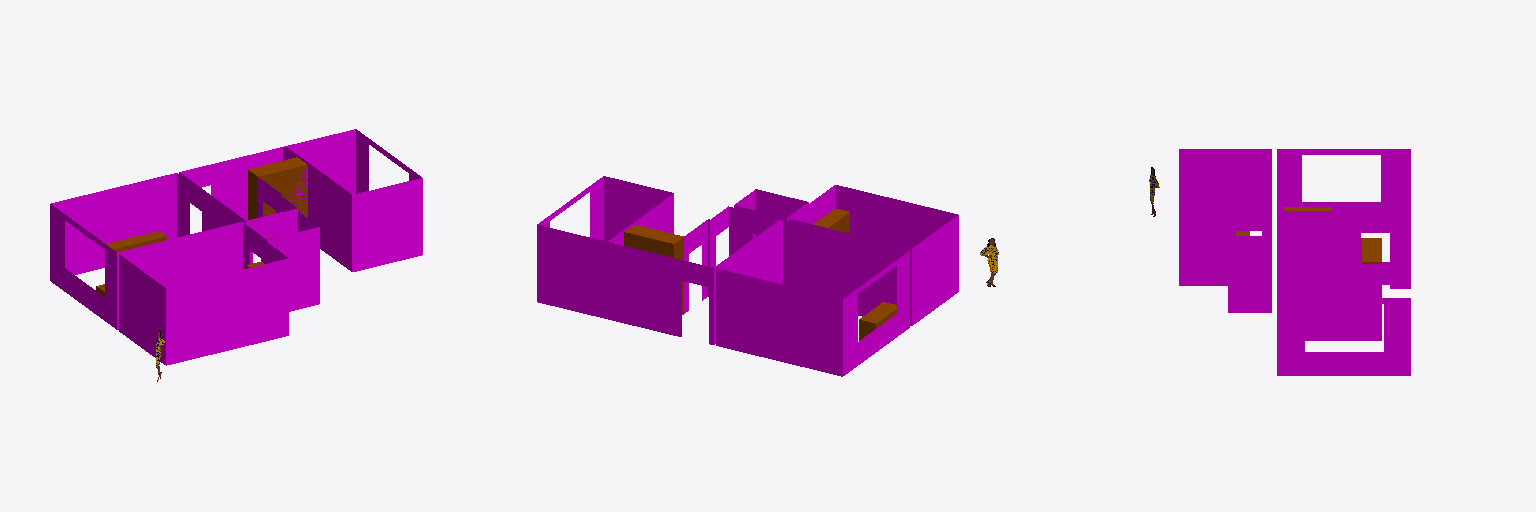
File: byt.obj
The picture shows the model from 3 angles: view 1: azimuth 30°, elevation 25°; view 2: azimuth 150°, elevation 25°; view 3: azimuth 270°, elevation 25°; orthographic projection.
Parts seen in each view (by area): view 1: Mesh13 Component_12 Model, Mesh12 Component_11 Model, Mesh15 Component_14 Model, Mesh17 Component_17 Model, Mesh14 Component_13 Model, Mesh9 Component_3 Model, Mesh18 Component_16 Model, Mesh10 Vypinac Model; view 2: Mesh12 Component_11 Model, Mesh17 Component_17 Model, Mesh13 Component_12 Model, Mesh15 Component_14 Model, Mesh18 Component_16 Model, Mesh14 Component_13 Model, Mesh3 Component_7 Model, Mesh7 Component_1 Model, Mesh11 Component_9 Model; view 3: Mesh15 Component_14 Model, Mesh13 Component_12 Model, Mesh12 Component_11 Model, Mesh14 Component_13 Model, Mesh16 Component_15 Model, Mesh18 Component_16 Model.
Boxes of the visible parts, <box> form: Mesh13 Component_12 Model: <box>119,224,288,365</box>; Mesh12 Component_11 Model: <box>50,173,243,329</box>; Mesh15 Component_14 Model: <box>286,129,422,271</box>; Mesh17 Component_17 Model: <box>180,129,355,220</box>; Mesh14 Component_13 Model: <box>245,211,319,311</box>; Mesh9 Component_3 Model: <box>259,165,307,239</box>; Mesh18 Component_16 Model: <box>246,177,297,222</box>; Mesh10 Vypinac Model: <box>106,231,166,251</box>; Mesh12 Component_11 Model: <box>716,220,909,376</box>; Mesh17 Component_17 Model: <box>537,225,713,344</box>; Mesh13 Component_12 Model: <box>789,185,958,325</box>; Mesh15 Component_14 Model: <box>537,176,673,241</box>; Mesh18 Component_16 Model: <box>684,206,779,313</box>; Mesh14 Component_13 Model: <box>734,189,808,239</box>; Mesh3 Component_7 Model: <box>859,302,896,340</box>; Mesh7 Component_1 Model: <box>624,232,673,257</box>; Mesh11 Component_9 Model: <box>813,208,849,232</box>; Mesh15 Component_14 Model: <box>1277,264,1410,375</box>; Mesh13 Component_12 Model: <box>1179,149,1271,285</box>; Mesh12 Component_11 Model: <box>1277,149,1410,211</box>; Mesh14 Component_13 Model: <box>1228,210,1271,312</box>; Mesh16 Component_15 Model: <box>1277,212,1410,288</box>; Mesh18 Component_16 Model: <box>1277,237,1361,263</box>.
Bounding box in the file's own units: 11.61 × 2.6 × 7.94.